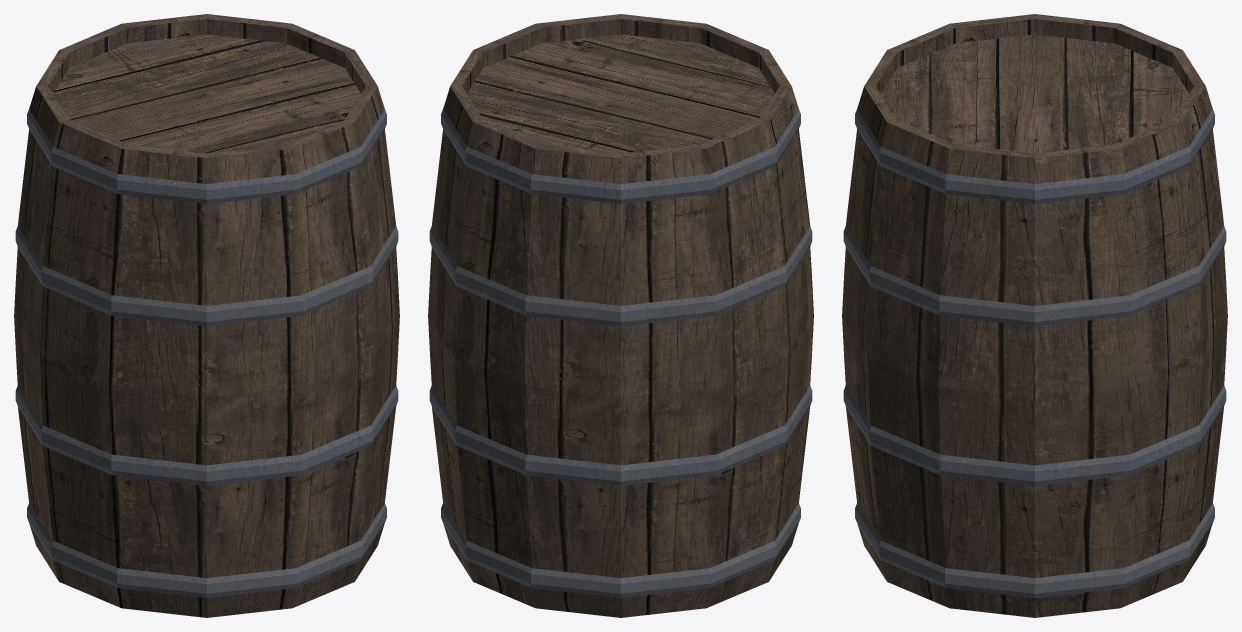
The model's file is f1_barrel.obj.
3 views of the same model, side by side, from view 1: azimuth 30°, elevation 25°; view 2: azimuth 150°, elevation 25°; view 3: azimuth 270°, elevation 25° (orthographic).
Visible parts, largest first — view 1: f1_barrel.obj; view 2: f1_barrel.obj; view 3: f1_barrel.obj.
Part boxes in pixels (x1,y1,x2,y2): f1_barrel.obj: [14, 14, 399, 617]; f1_barrel.obj: [428, 14, 813, 617]; f1_barrel.obj: [842, 14, 1227, 617].
Size of the model in its own units: 0.8162 by 1.07 by 0.8162.
2 materials, 2 textured.
